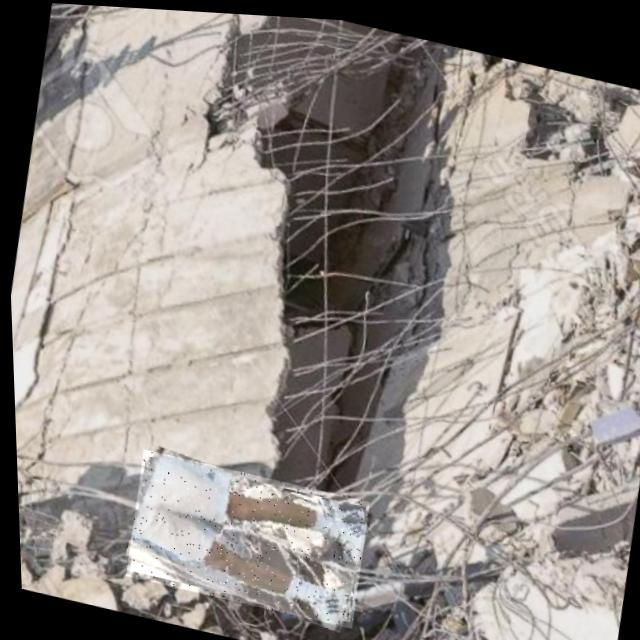Person in Rubble: (117, 445, 369, 624)
